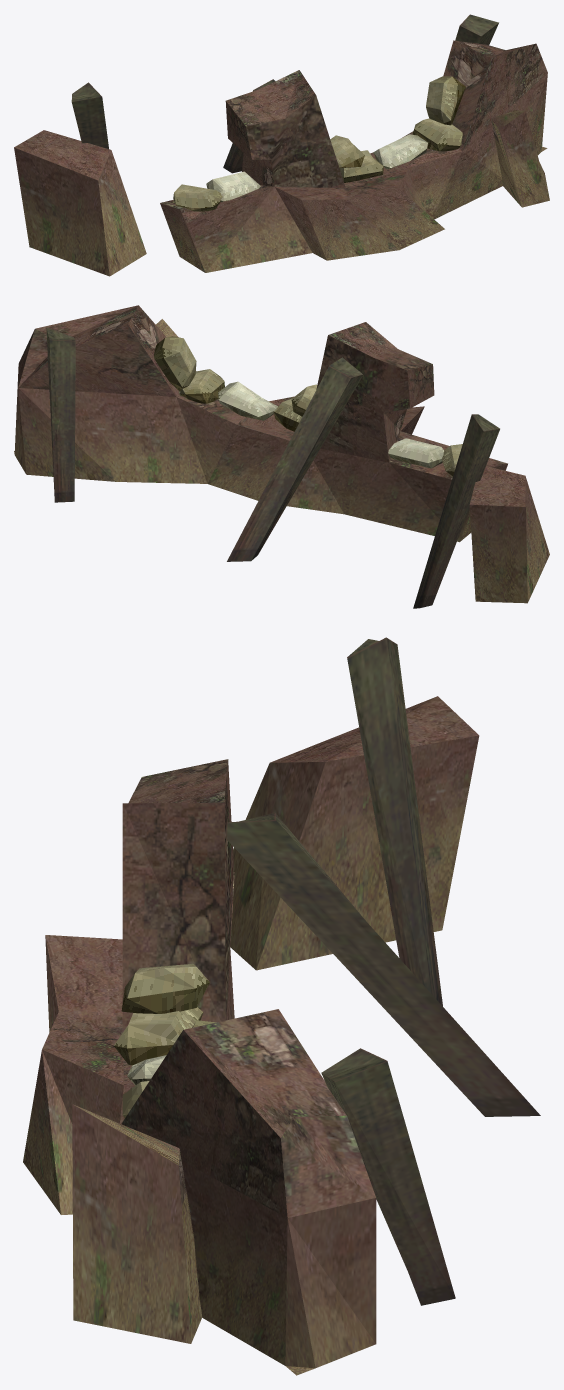
File: C1SMFORTPOINT1H.obj
3 views of the same model, one above another, from view 1: azimuth 30°, elevation 25°; view 2: azimuth 150°, elevation 25°; view 3: azimuth 270°, elevation 25° (orthographic). The views are drawn at different scales.
Parts seen in each view (by area): view 1: Node 0; view 2: Node 0; view 3: Node 0.
Boxes of the visible parts, bbox=[...] form: Node 0: bbox=[14, 14, 549, 276]; Node 0: bbox=[14, 305, 549, 608]; Node 0: bbox=[23, 637, 540, 1375].
Bounding box in the file's own units: 10.26 × 3.56 × 4.62.
Materials: 5 (5 with a texture image).
